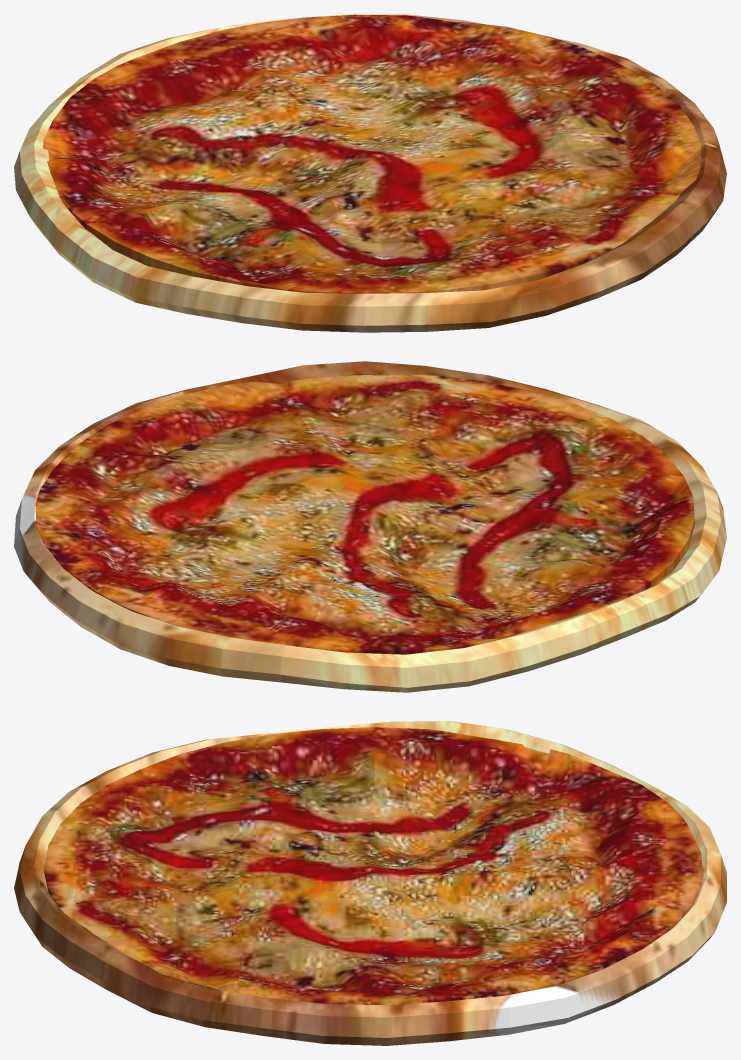
The model's file is pizza.obj.
3 views of the same model, one above another, from view 1: azimuth 30°, elevation 25°; view 2: azimuth 150°, elevation 25°; view 3: azimuth 270°, elevation 25° (orthographic).
Parts seen in each view (by area): view 1: ChamferCy3, Torus04; view 2: ChamferCy3, Torus04; view 3: ChamferCy3, Torus04.
Boxes of the visible parts, x1,y1,x2,y2 form: ChamferCy3: (43,14,701,293); Torus04: (14,14,726,332); ChamferCy3: (35,375,694,654); Torus04: (14,361,726,692); ChamferCy3: (44,727,703,1005); Torus04: (14,721,726,1045).
Bounding box in the file's own units: 0.7797 × 0.0654 × 0.7789.
Materials: 2 (2 with a texture image).
